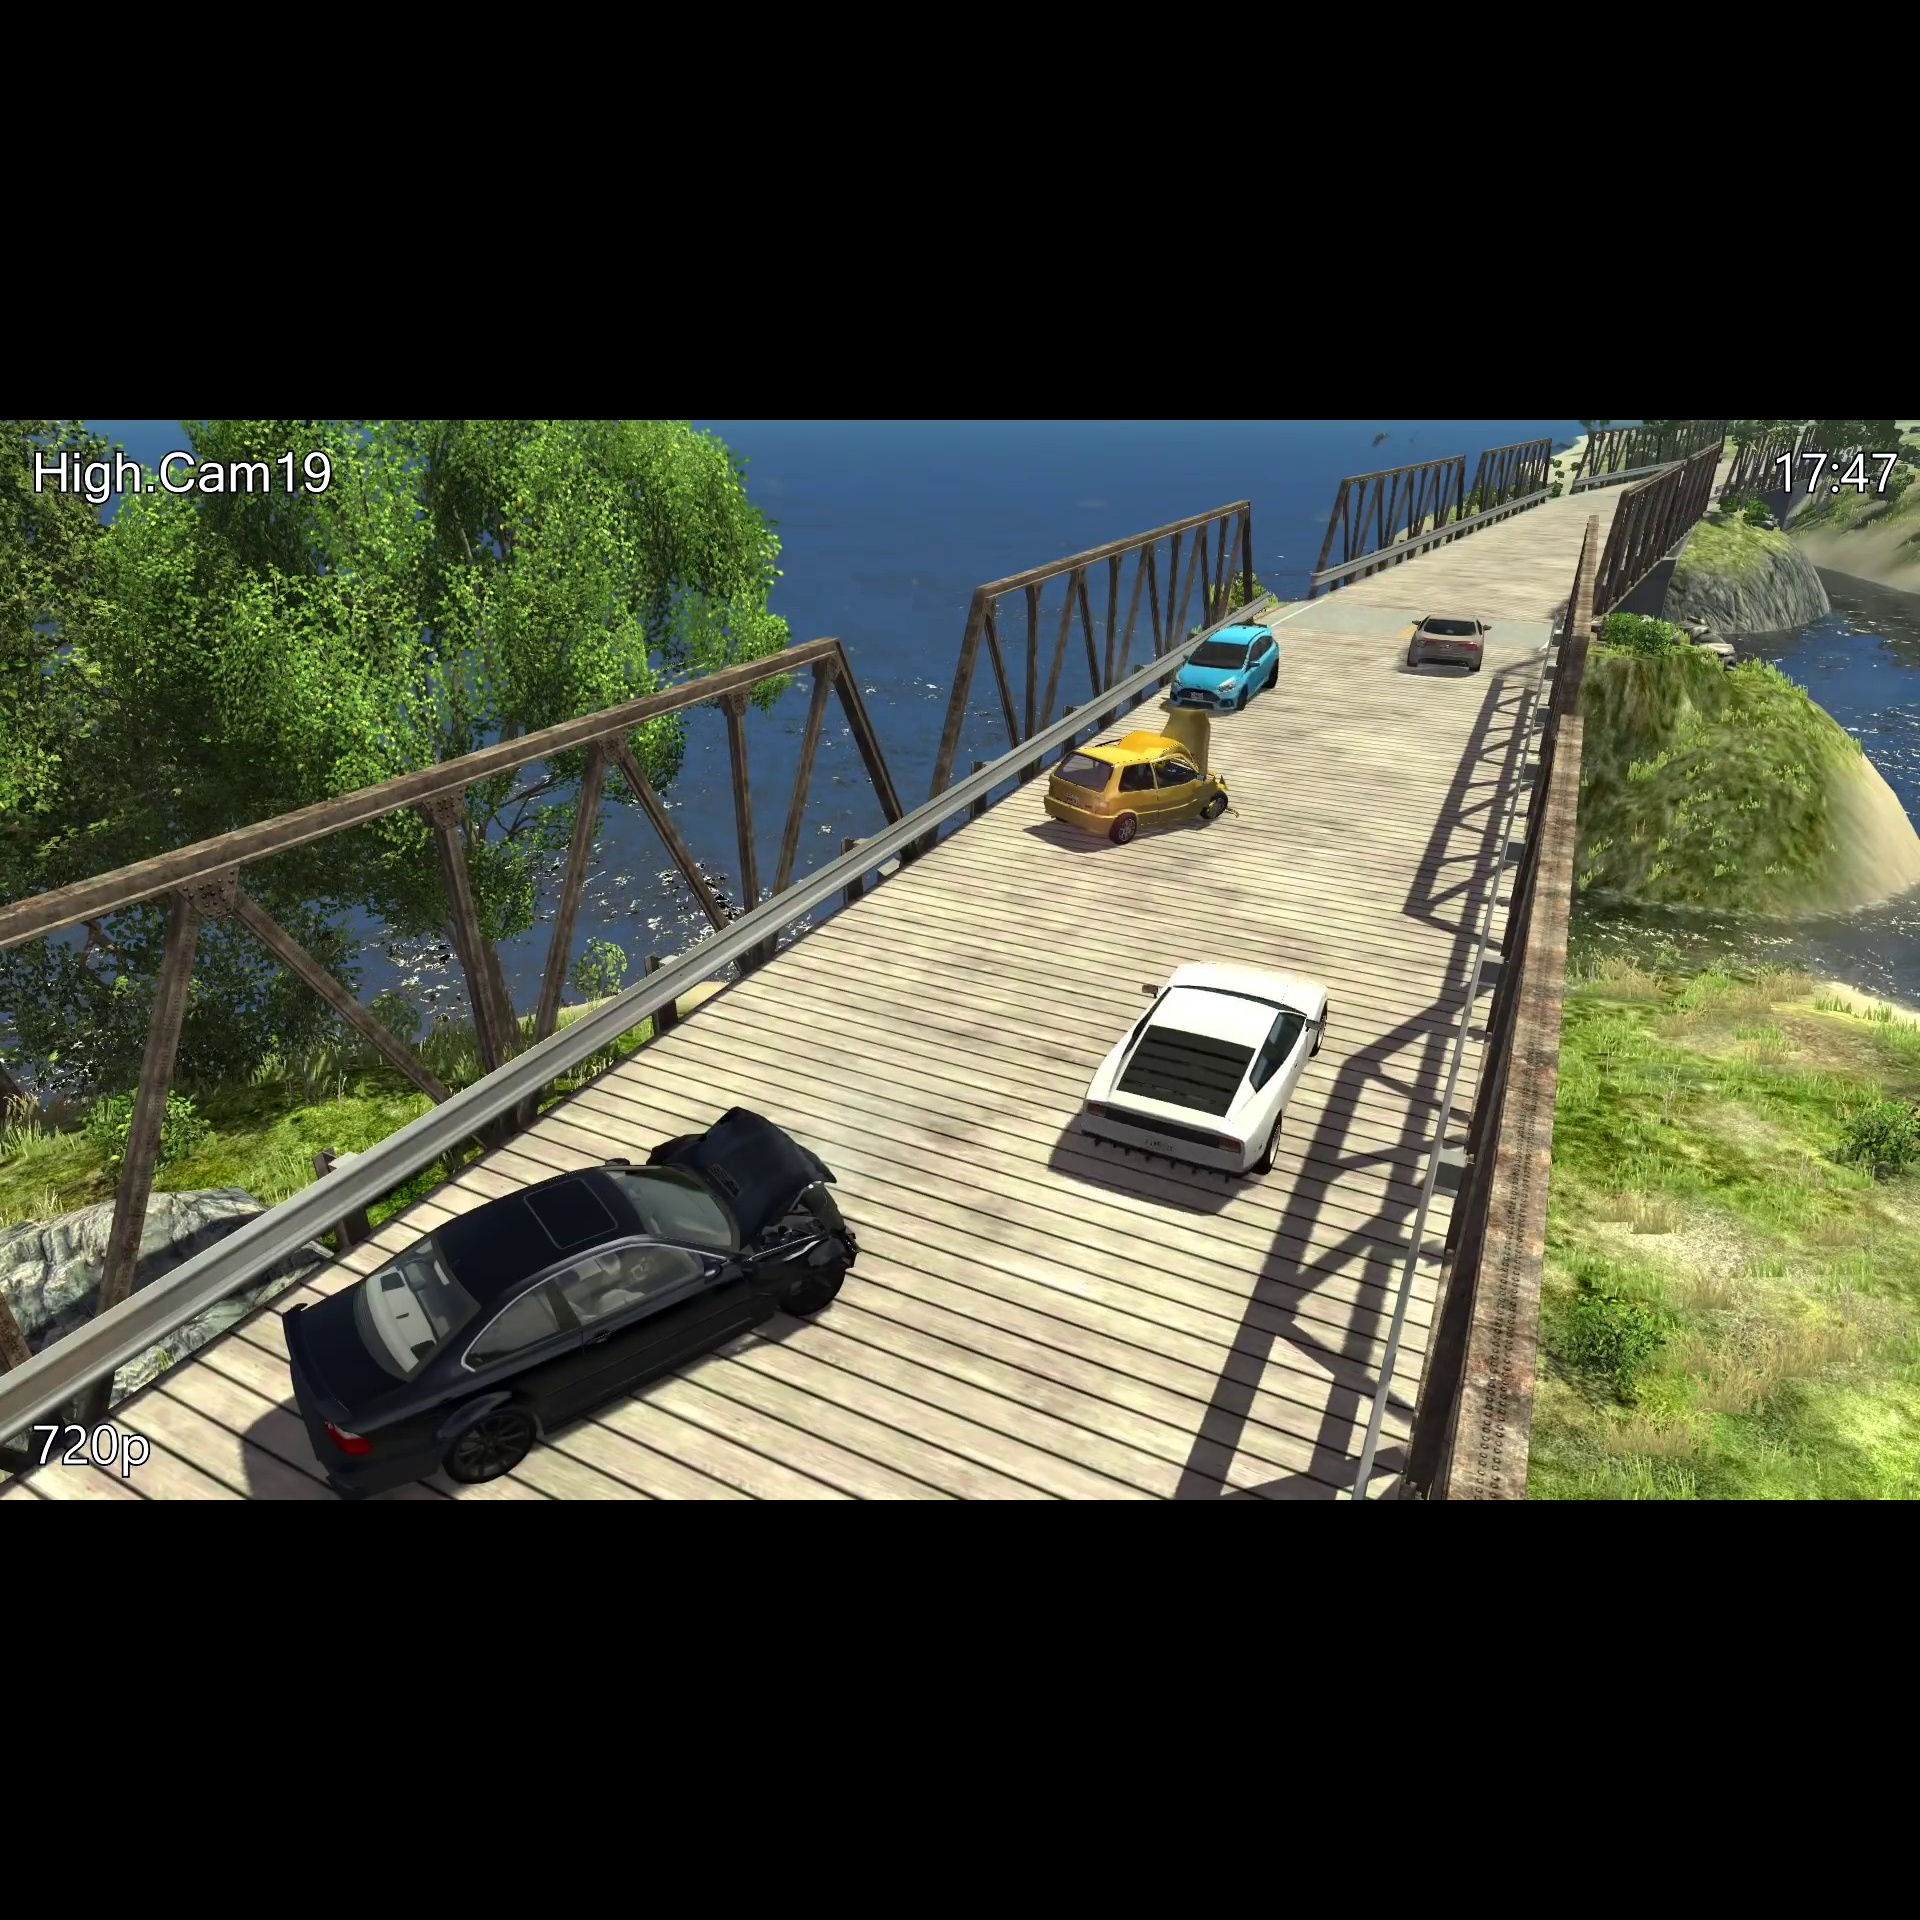vehicle: (265, 1099, 877, 1496), (1065, 944, 1342, 1190), (1034, 710, 1247, 846), (1166, 614, 1285, 723), (1398, 607, 1502, 675)
